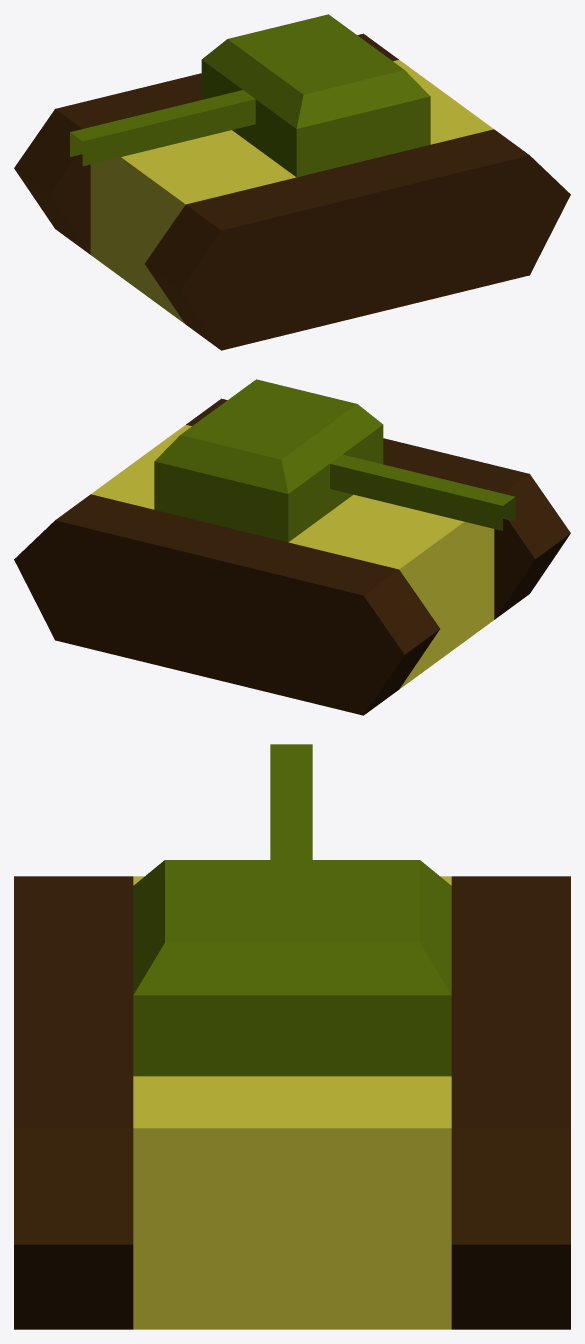
The model's file is tank_2_1.glb.
3 views of the same model, one above another, from view 1: azimuth 30°, elevation 25°; view 2: azimuth 150°, elevation 25°; view 3: azimuth 270°, elevation 25° (orthographic). The views are drawn at different scales.
Visible parts, largest first — view 1: tank_yellow_1; view 2: tank_yellow_1; view 3: tank_yellow_1.
Boxes of the visible parts, x1,y1,x2,y2 form: tank_yellow_1: [14, 14, 570, 350]; tank_yellow_1: [14, 379, 570, 715]; tank_yellow_1: [14, 744, 570, 1329].
Bounding box in the file's own units: 2 × 0.8918 × 1.4.
1 material, 1 textured.
